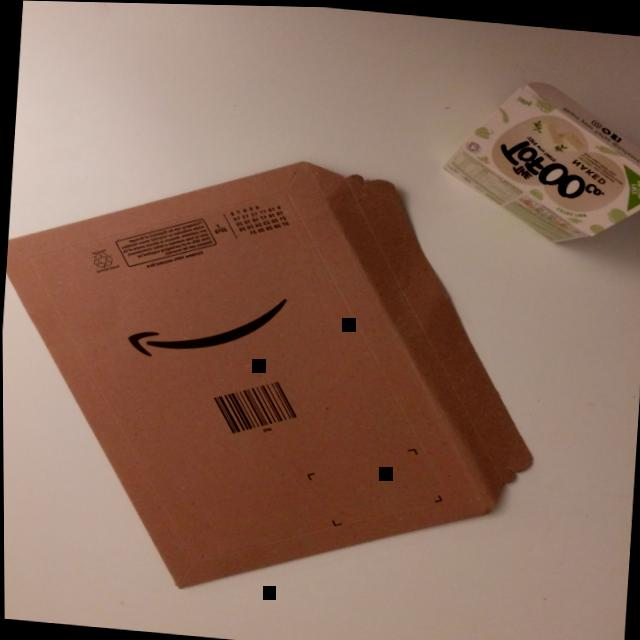Corrugated carton: (4, 160, 531, 588)
Other carton: (440, 79, 640, 240)
